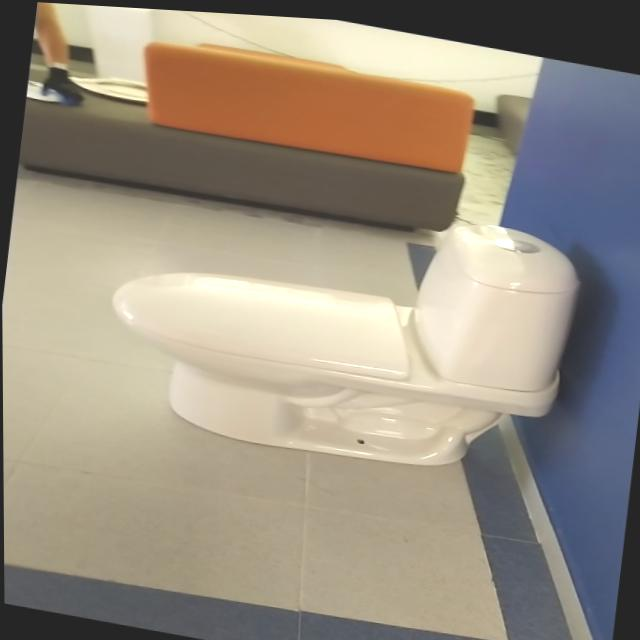toilet: (96, 154, 586, 493)
